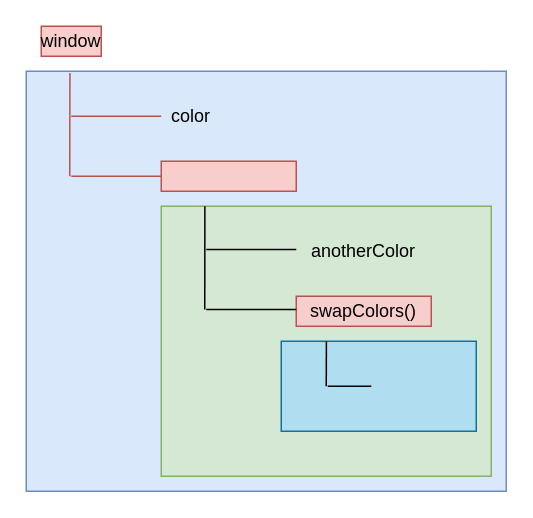
This 533x518 diagram has some shape labels left out. The shapes that lost their labels are listed below. From the top down, each one's centre as x and y in pixels, then its label:
At (228,175): "changeColor()".
At (378,385): "tempColor".
